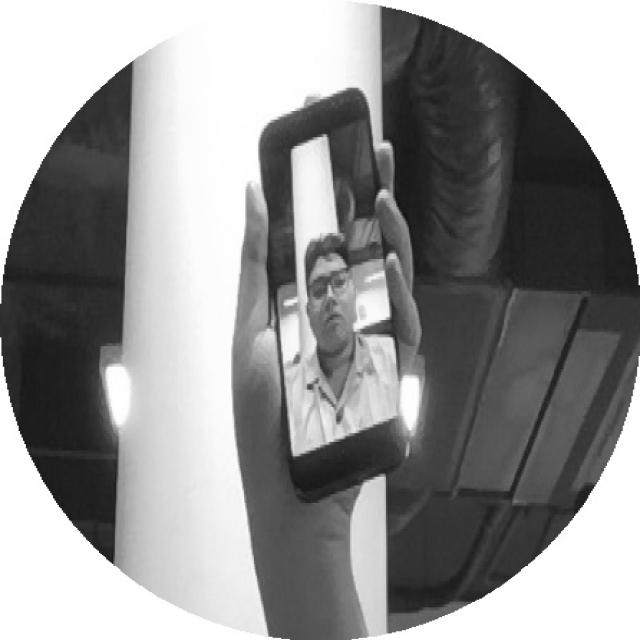fake: (230, 81, 444, 502), (251, 85, 417, 505)
